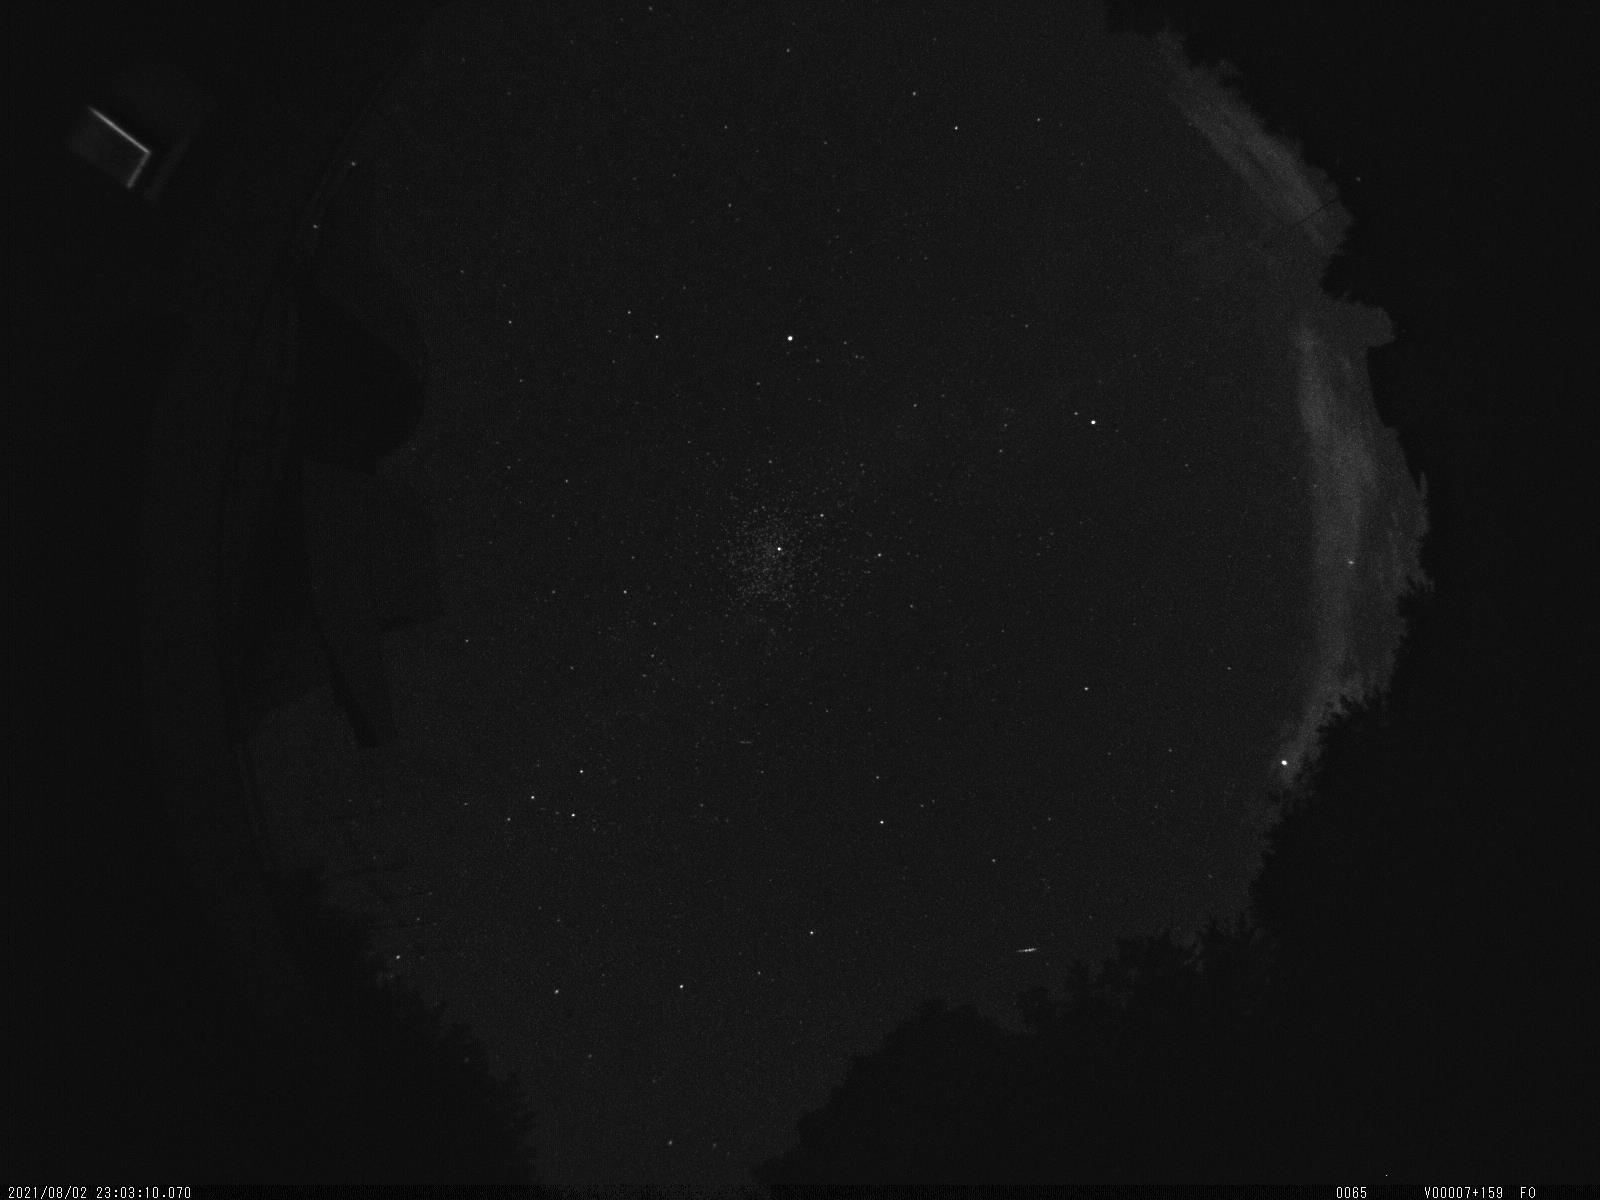Meteor: (1006, 939, 1047, 960)
